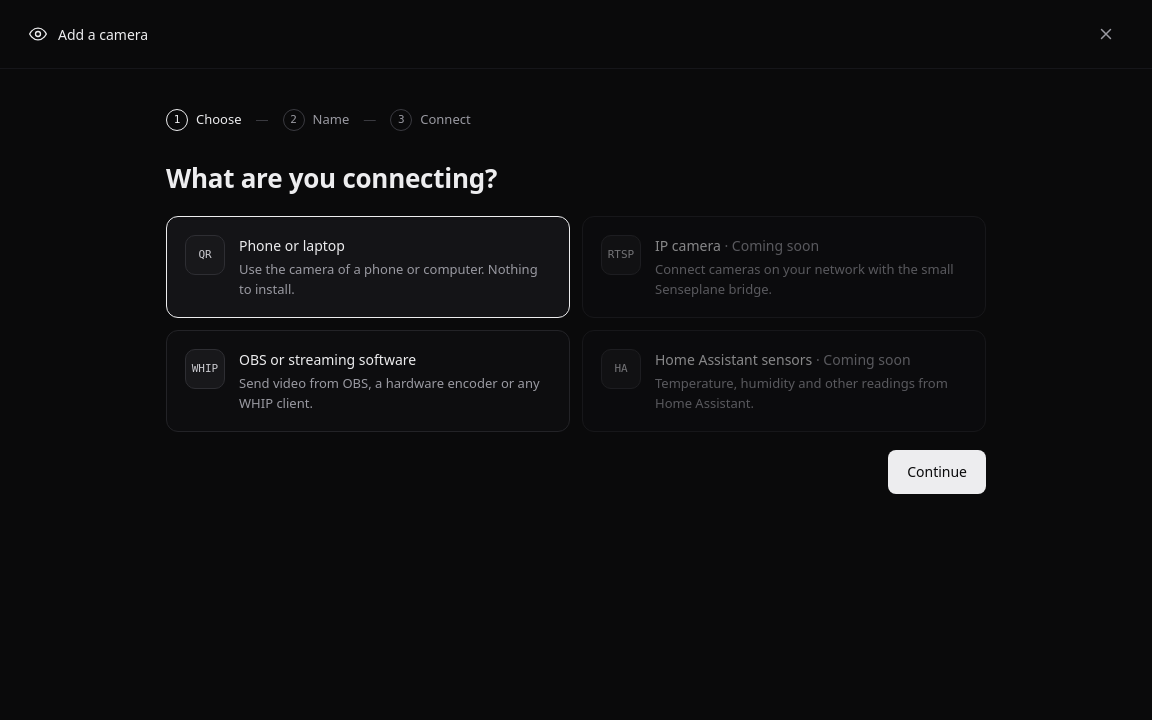
Test: AddCameraPage › shows WHIP copy blocks from the ingest response
The image size is (1152, 720).
Step 1. Click the radio button labelled "OBS" → [368, 381], box x1=166 y1=330 x2=570 y2=432
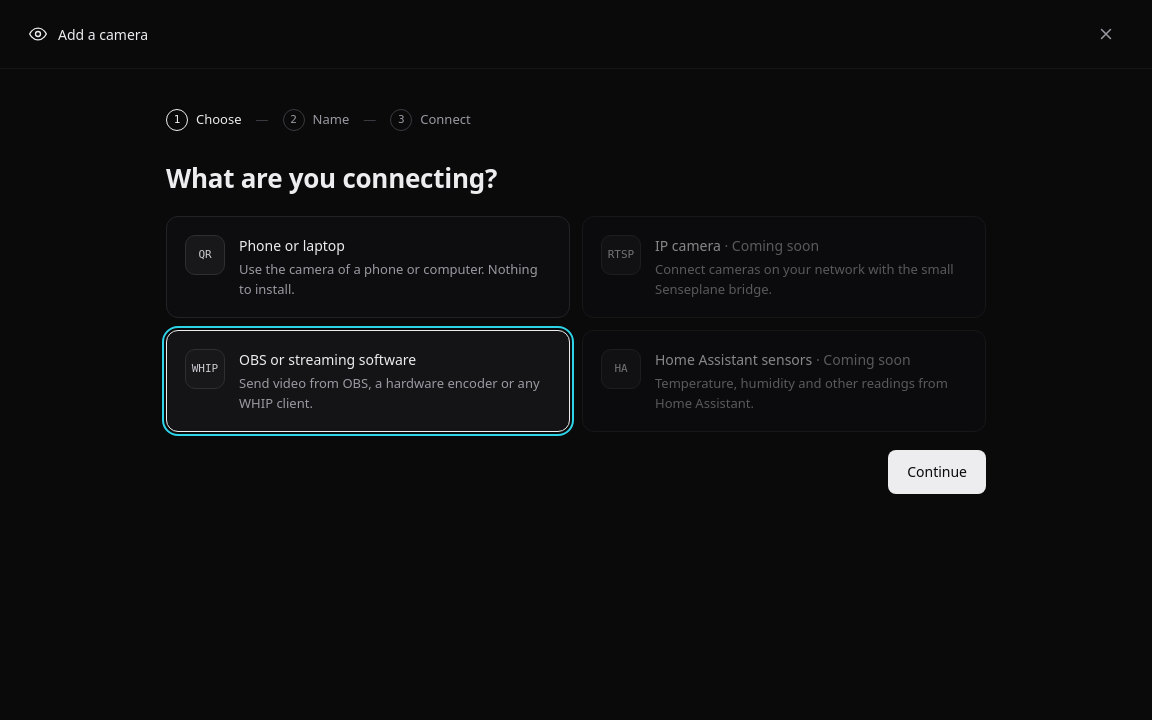
Step 2. Click the button "Continue" → [937, 472], box x1=888 y1=450 x2=986 y2=494
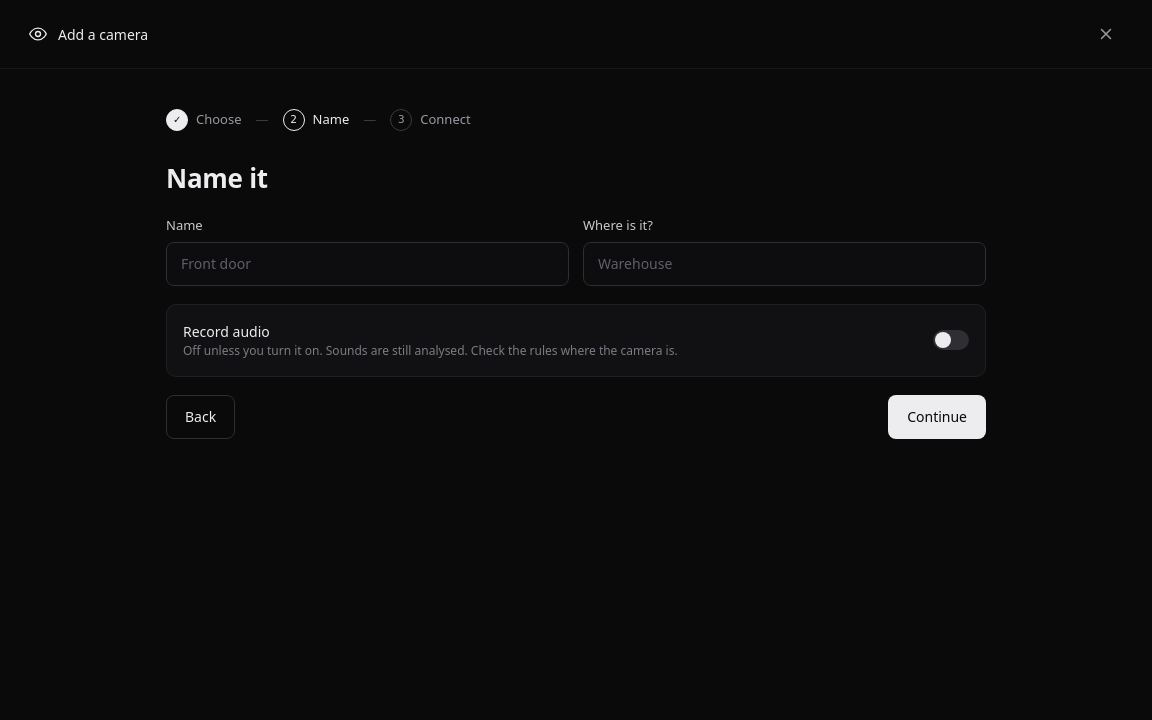
Step 3. Type "Studio" into the field labelled "Name" → [368, 264], box x1=166 y1=242 x2=569 y2=286
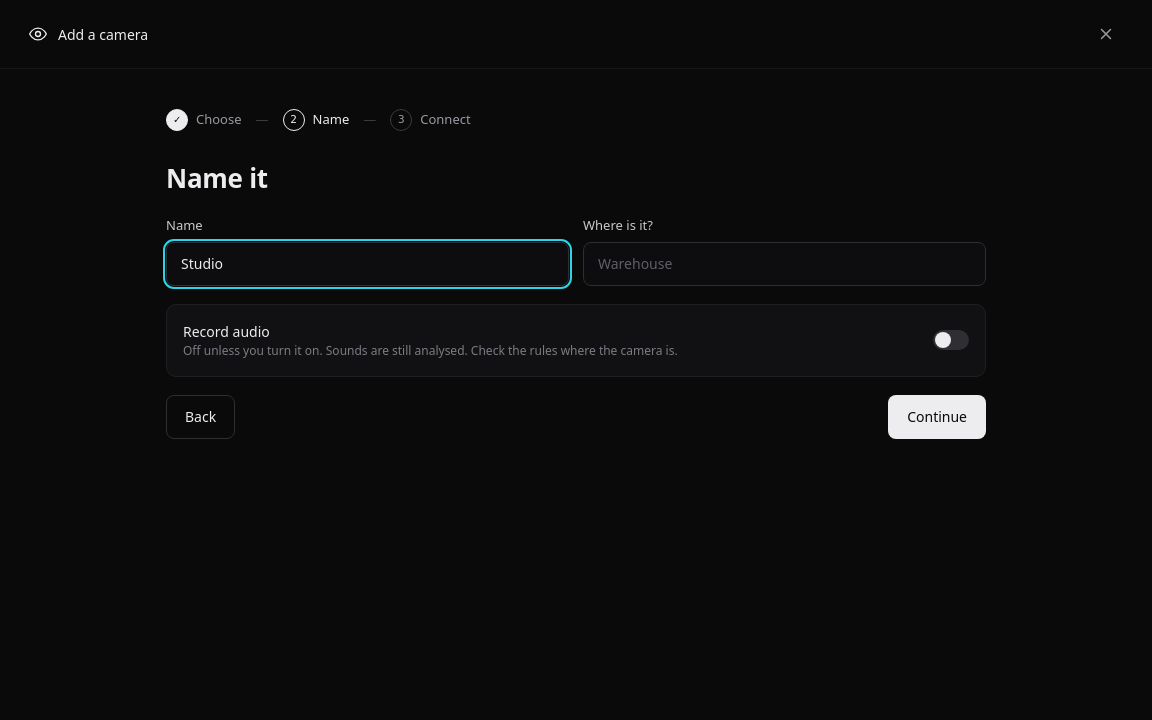
Step 4. Click the button "Continue" → [937, 416], box x1=888 y1=394 x2=986 y2=438
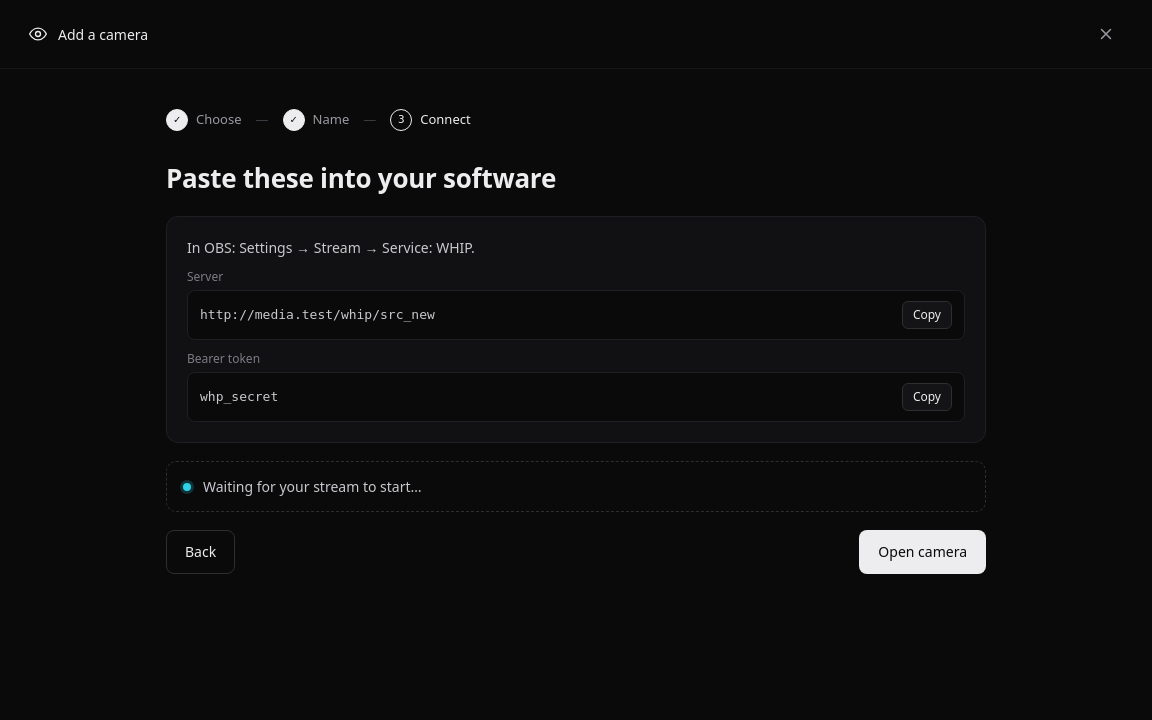
Result: the heading "Paste these into your software" is shown at x1=166 y1=160 x2=556 y2=196
Result: the text named "Server" reads "http://media.test/whip/src_new" at x1=200 y1=307 x2=435 y2=322
Result: the text named "Bearer token" reads "whp_secret" at x1=200 y1=389 x2=278 y2=404
